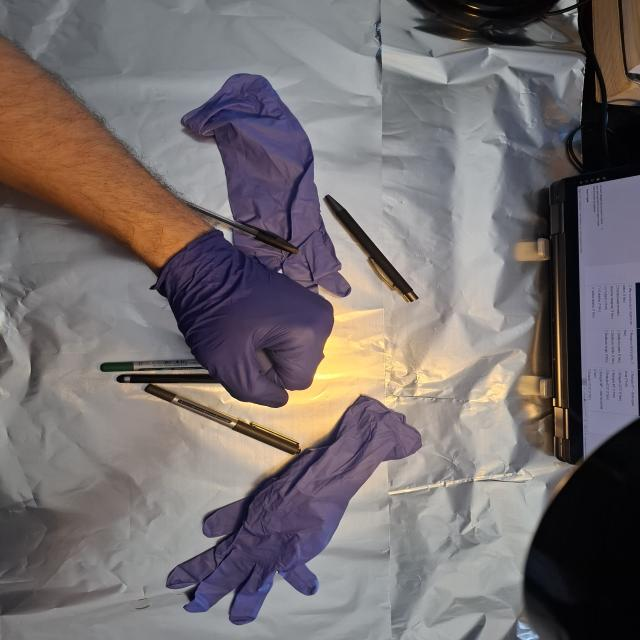glove_on: (153, 228, 340, 412)
